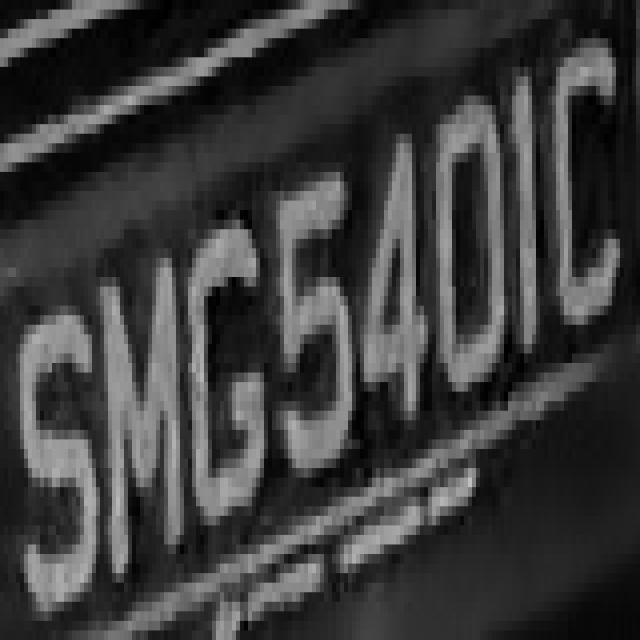0: (424, 86, 504, 420)
1: (500, 19, 548, 392)
4: (336, 76, 428, 430)
5: (264, 143, 368, 516)
C: (548, 19, 632, 373)
G: (176, 220, 272, 554)
M: (92, 229, 192, 583)
S: (16, 286, 108, 621)
